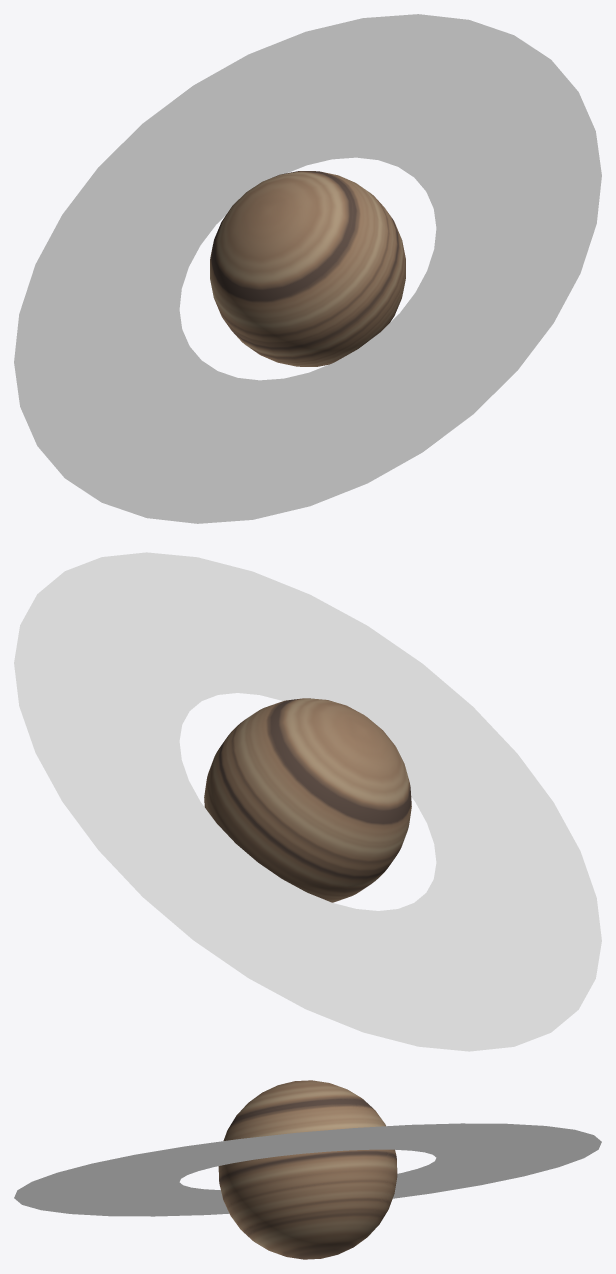
The model's file is Venus.fbx.
3 views of the same model, one above another, from view 1: azimuth 30°, elevation 25°; view 2: azimuth 150°, elevation 25°; view 3: azimuth 270°, elevation 25° (orthographic). The views are drawn at different scales.
Visible parts, largest first — view 1: Ring, Venus; view 2: Ring, Venus; view 3: Ring, Venus.
Boxes of the visible parts, box(x1,y1,x2,y2) form: Ring: box(14, 14, 601, 523); Venus: box(210, 171, 405, 366); Ring: box(14, 552, 601, 1051); Venus: box(204, 698, 411, 902); Ring: box(14, 1123, 601, 1216); Venus: box(218, 1080, 397, 1259).
Size of the model in its own units: 695 by 445 by 818.
Materials: 2 (1 with a texture image).
